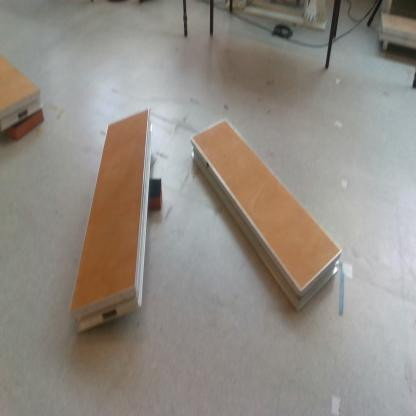Stairs: (191, 118, 344, 314), (71, 110, 154, 336), (1, 54, 43, 138)
